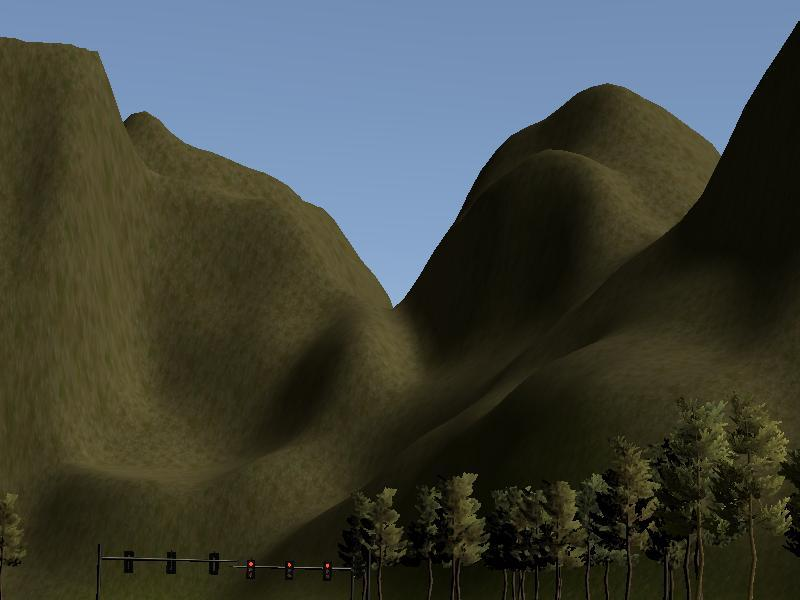Red: (322, 559, 332, 583), (245, 558, 255, 581), (284, 559, 294, 582)
